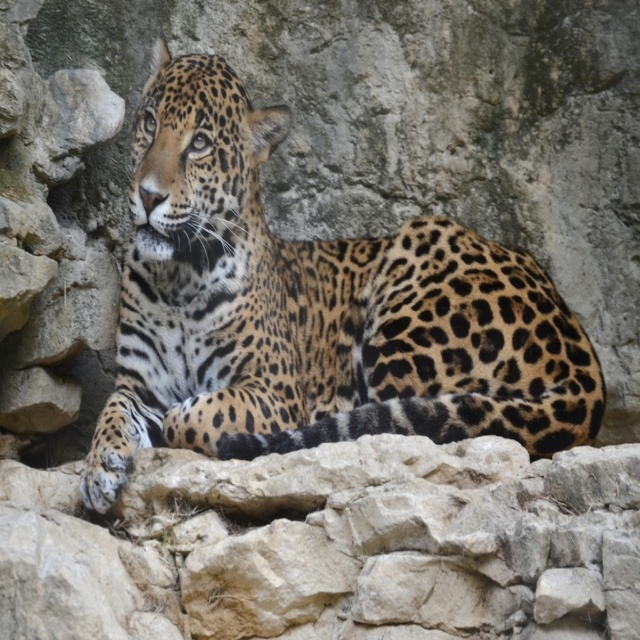Jaguar: (78, 29, 608, 517)
